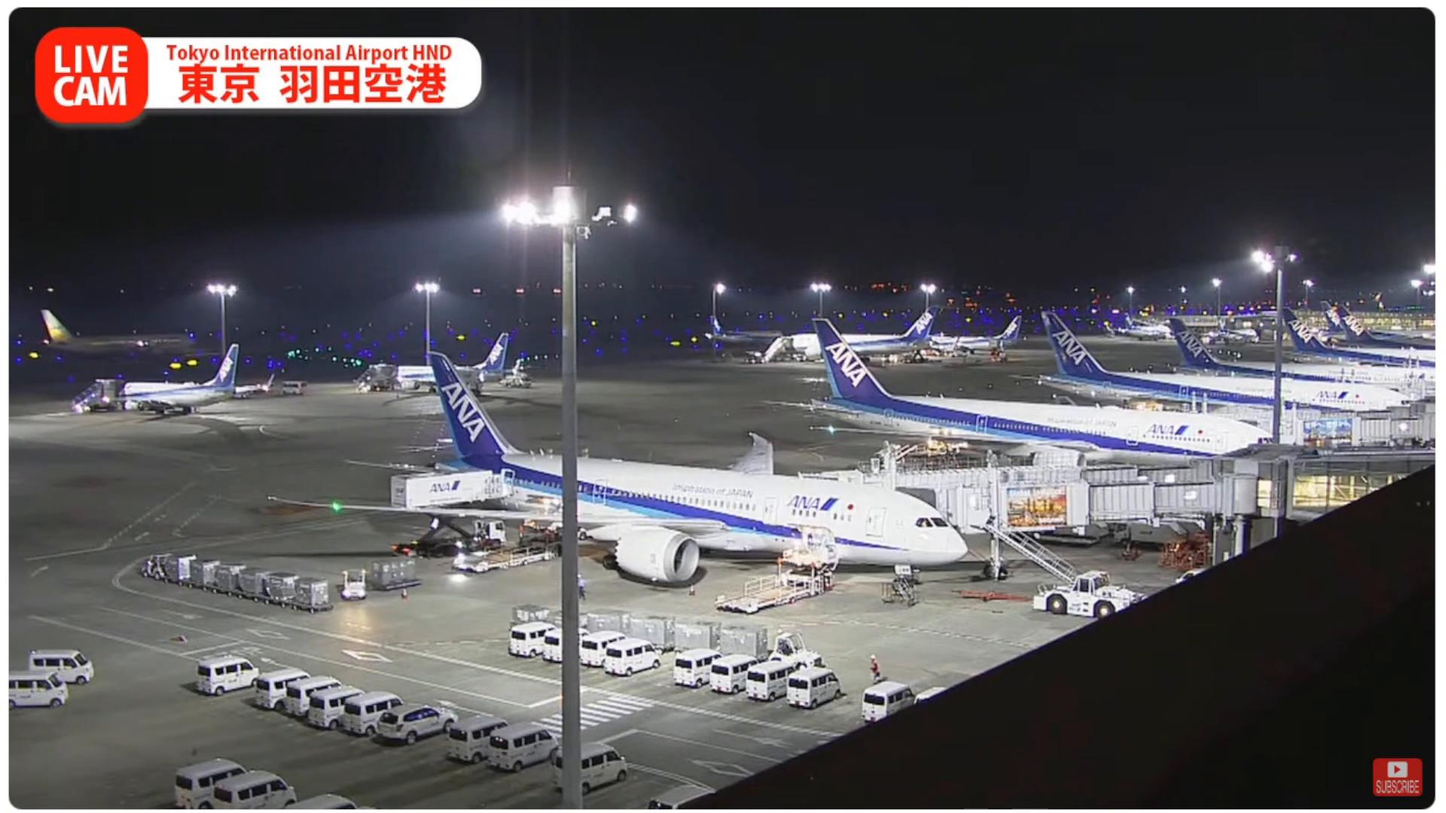APS: (1033, 571, 1146, 618)
Aerobridge: (895, 475, 1256, 534), (800, 456, 1224, 487)
Airplane: (269, 351, 970, 589)
Catering: (389, 466, 504, 560)
Dolly: (511, 603, 771, 658), (166, 552, 332, 611), (369, 557, 424, 591)
JCPL: (712, 560, 837, 614), (453, 524, 559, 573)
Tractor: (768, 629, 825, 671), (340, 569, 365, 601), (138, 553, 167, 580)
Window: (1290, 455, 1437, 521)
